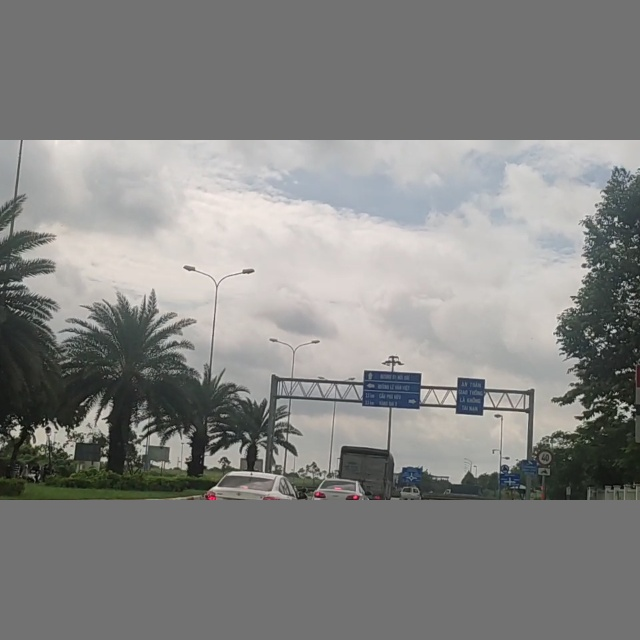P.127*40: (535, 449, 554, 465)
